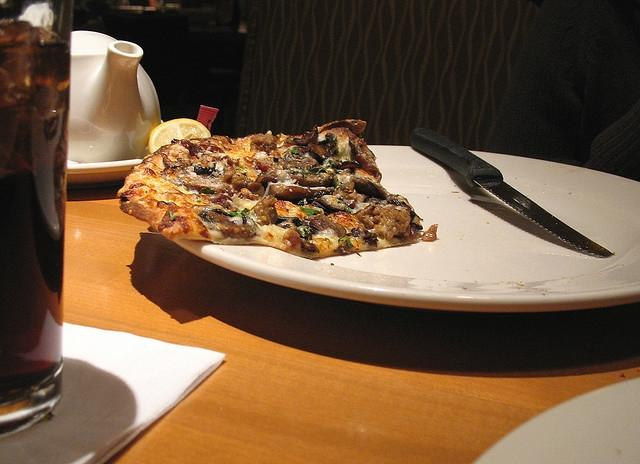lemon: (148, 118, 212, 154)
mushroom: (180, 174, 237, 196), (349, 174, 387, 200), (307, 133, 338, 161), (307, 215, 346, 237), (274, 186, 331, 201), (286, 172, 334, 187), (214, 224, 254, 237), (319, 194, 347, 212), (348, 201, 370, 214), (194, 164, 216, 175)
